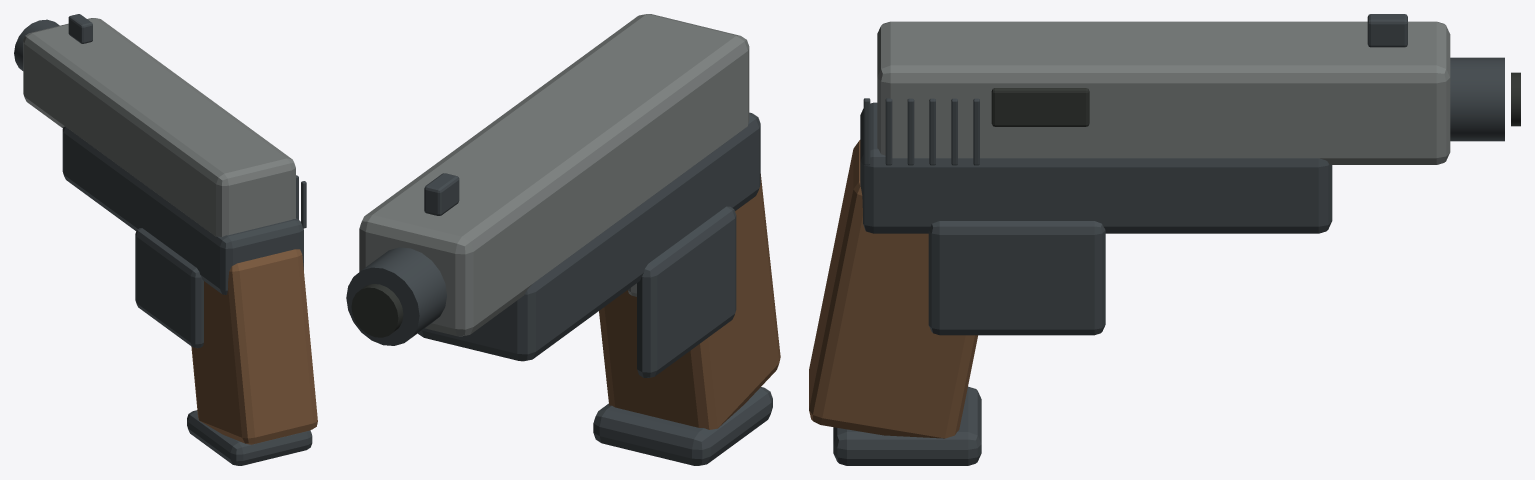
The model's file is noir-pistol.glb.
3 renders of one model, left to right at view 1: azimuth 30°, elevation 25°; view 2: azimuth 150°, elevation 25°; view 3: azimuth 270°, elevation 25°, orthographic. The views are drawn at different scales.
Parts seen in each view (by area): view 1: weapon-machined-steel.001, weapon-walnut, weapon-blued-steel, weapon-blued-steel.001, weapon-blued-steel.002; view 2: weapon-machined-steel.001, weapon-blued-steel, weapon-walnut, weapon-blued-steel.001, weapon-grip, weapon-blued-steel.002; view 3: weapon-machined-steel.001, weapon-blued-steel, weapon-walnut, weapon-blued-steel.001, weapon-blued-steel.002, weapon-grip.001.
Part boxes in pixels (x1,y1,x2,y2): weapon-machined-steel.001: (23,18,295,236); weapon-walnut: (191,249,317,444); weapon-blued-steel: (14,19,303,348); weapon-blued-steel.001: (187,410,312,465); weapon-blued-steel.002: (68,14,306,228); weapon-machined-steel.001: (359,14,749,336); weapon-blued-steel: (346,112,760,377); weapon-walnut: (599,174,780,429); weapon-blued-steel.001: (593,387,772,465); weapon-grip: (351,284,403,337); weapon-blued-steel.002: (424,173,459,215); weapon-machined-steel.001: (877,21,1450,164); weapon-blued-steel: (860,57,1504,335); weapon-walnut: (809,140,977,438); weapon-blued-steel.001: (833,386,981,465); weapon-blued-steel.002: (863,14,1407,165); weapon-grip.001: (991,88,1089,126).
Bounding box in the file's own units: 0.093 × 0.279 × 0.4224.
